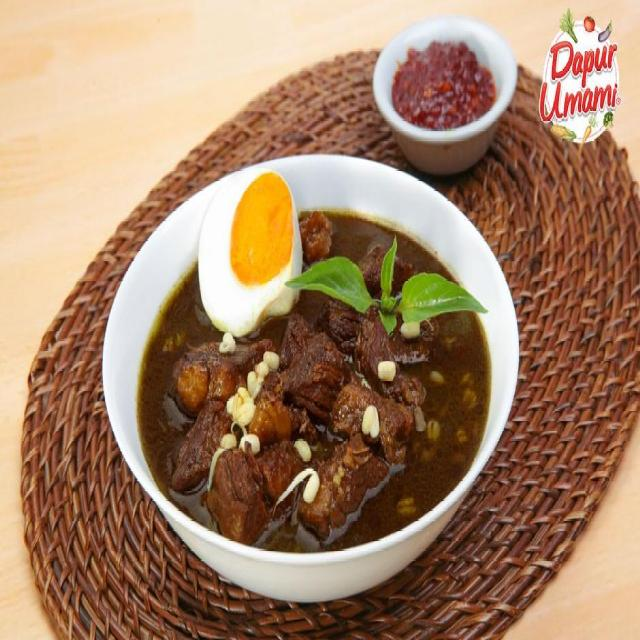Rawon: (124, 193, 490, 547)
